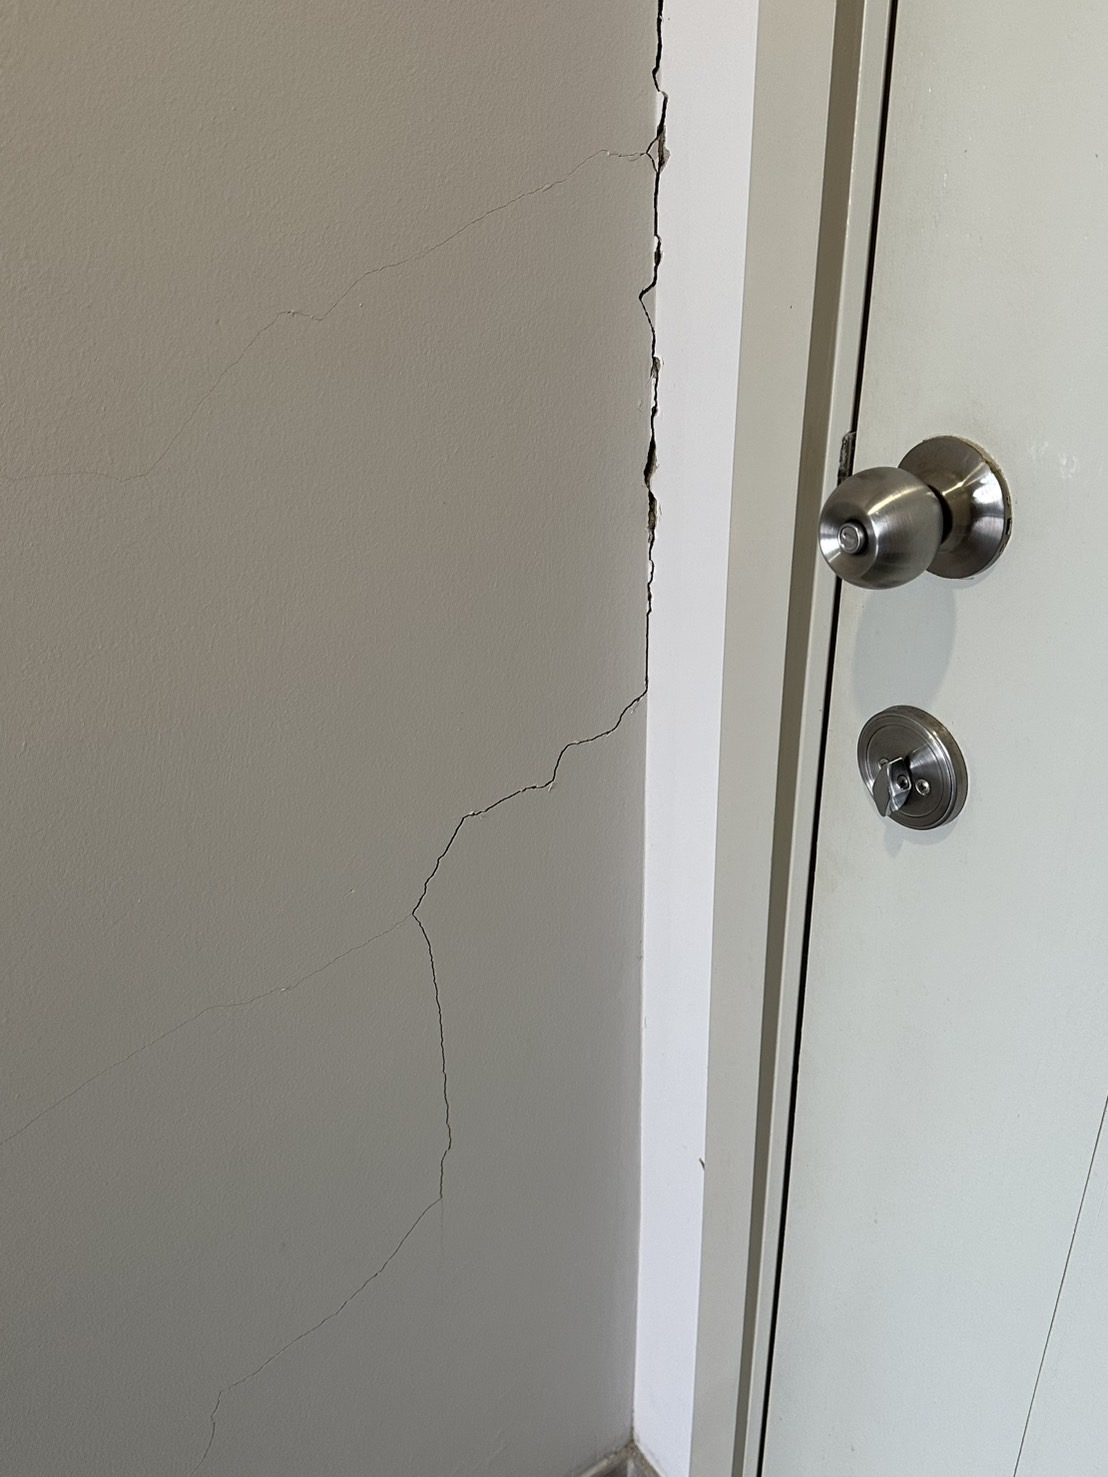Low: (196, 1, 677, 1471)
